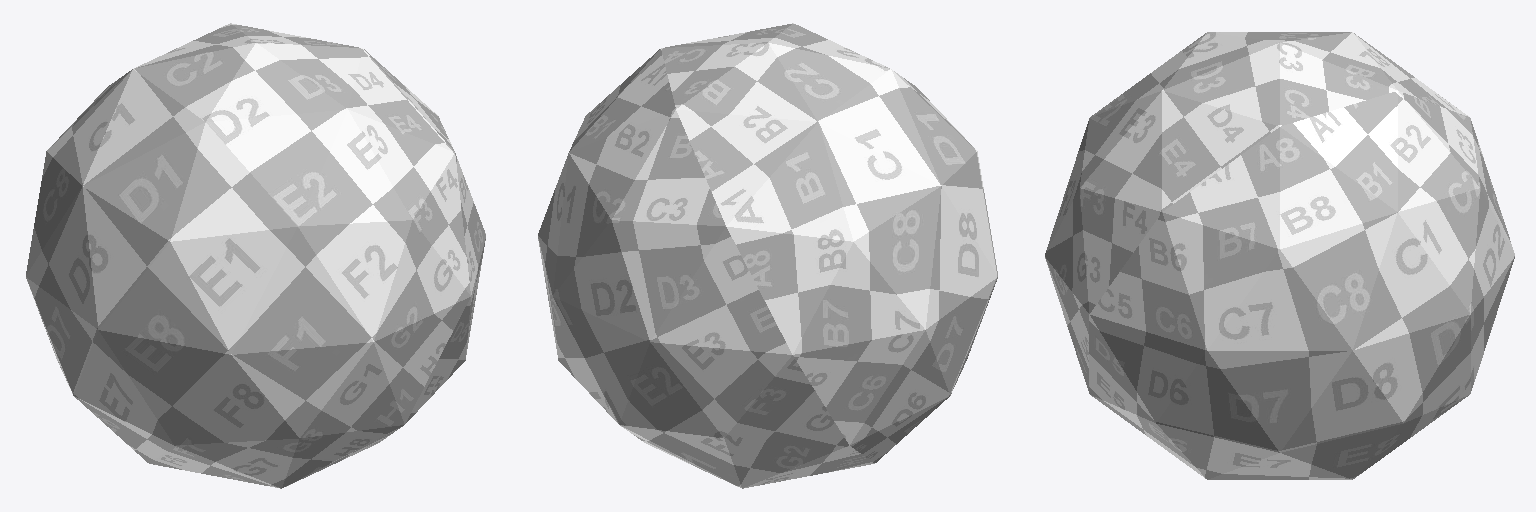
3 views of the same model, side by side, from view 1: azimuth 30°, elevation 25°; view 2: azimuth 150°, elevation 25°; view 3: azimuth 270°, elevation 25° (orthographic).
Parts seen in each view (by area): view 1: Icosphere; view 2: Icosphere; view 3: Icosphere.
Part boxes in pixels (x1,y1,x2,y2): Icosphere: (26,23,485,488); Icosphere: (538,23,997,488); Icosphere: (1045,32,1514,479).
Size of the model in its own units: 1.9 by 2 by 2.
1 materials, 1 textured.